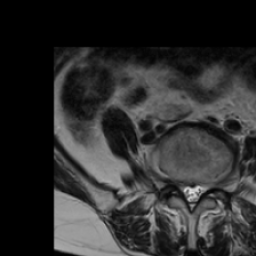CCS_normal: (187, 172, 196, 217)
LFS_normal: (205, 170, 215, 202)
LLS_normal: (196, 176, 205, 202)
RFS_severe_stenosis: (170, 168, 179, 198)
RLS_stenosis: (179, 174, 188, 204)
